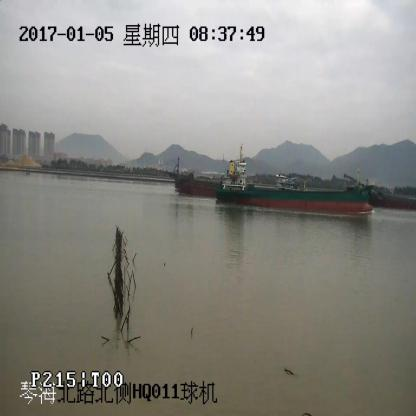Bulk Carrier: (214, 149, 374, 214), (157, 161, 216, 198), (374, 186, 416, 212)
